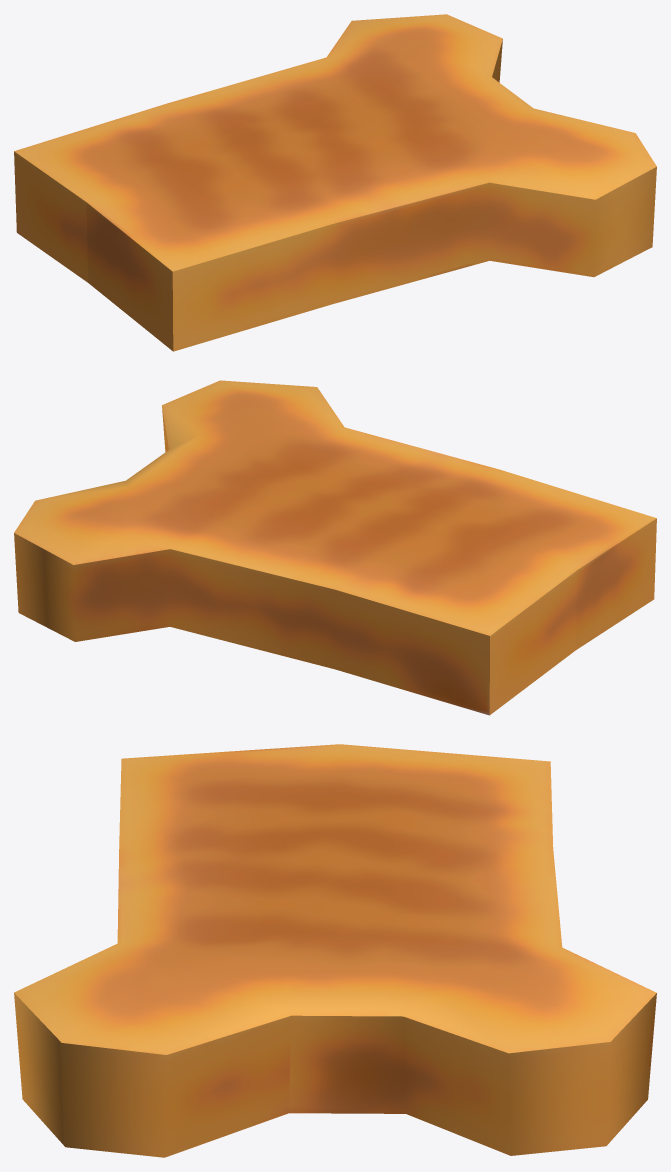
The model's file is toast.glb.
3 renders of one model, top to bottom at view 1: azimuth 30°, elevation 25°; view 2: azimuth 150°, elevation 25°; view 3: azimuth 270°, elevation 25°, orthographic. The views are drawn at different scales.
Parts seen in each view (by area): view 1: Toast_Foodback_Materials_10_20_0; view 2: Toast_Foodback_Materials_10_20_0; view 3: Toast_Foodback_Materials_10_20_0.
Boxes of the visible parts, left/top/right/bottom form: Toast_Foodback_Materials_10_20_0: left=14, top=14, right=656, bottom=351; Toast_Foodback_Materials_10_20_0: left=14, top=380, right=656, bottom=715; Toast_Foodback_Materials_10_20_0: left=14, top=744, right=656, bottom=1157.
Size of the model in its own units: 1.5 by 0.305 by 1.31.
1 material, 1 textured.
